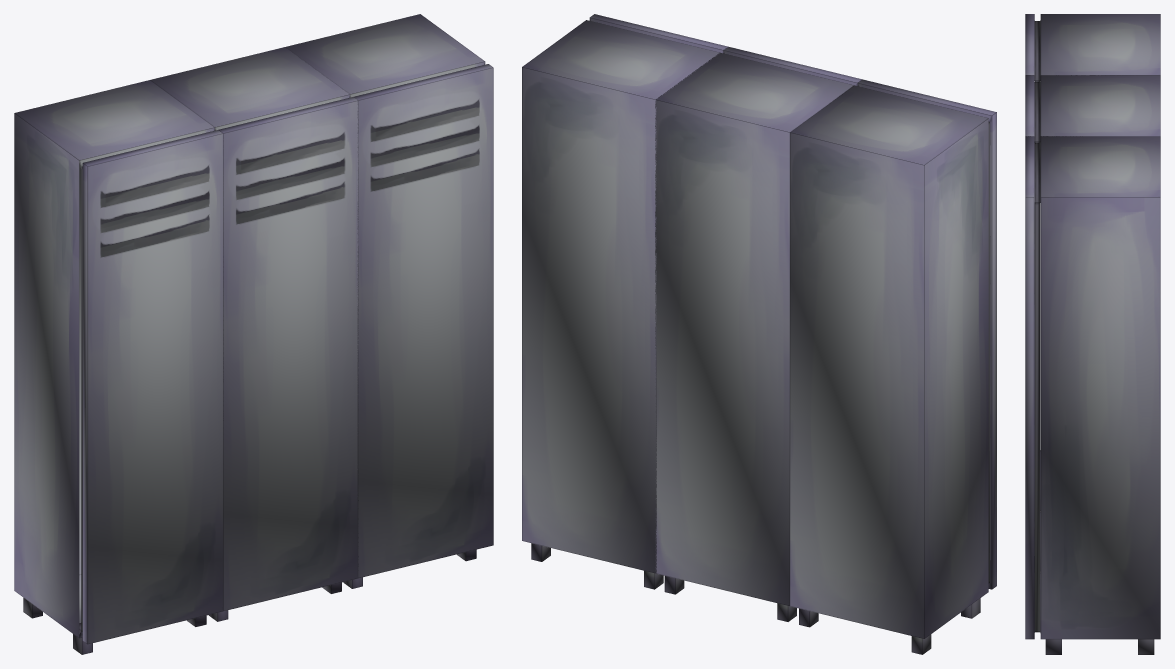
Rendered from Lockers3.fbx.
3 views of the same model, side by side, from view 1: azimuth 30°, elevation 25°; view 2: azimuth 150°, elevation 25°; view 3: azimuth 270°, elevation 25° (orthographic). The views are drawn at different scales.
Parts seen in each view (by area): view 1: Locker.008, Locker.007, Locker.006; view 2: Locker.008, Locker.007, Locker.006; view 3: Locker.007, Locker.006, Locker.008.
Boxes of the visible parts, box(x1,y1,x2,y2) form: Locker.008: box(14, 80, 223, 654); Locker.007: box(286, 14, 493, 588); Locker.006: box(150, 47, 358, 621); Locker.008: box(790, 79, 996, 654); Locker.007: box(522, 14, 728, 589); Locker.006: box(655, 47, 862, 621); Locker.007: box(1025, 136, 1160, 654); Locker.006: box(1025, 75, 1160, 571); Locker.008: box(1025, 14, 1160, 510).
Bounding box in the file's own units: 394 × 461 × 123.
